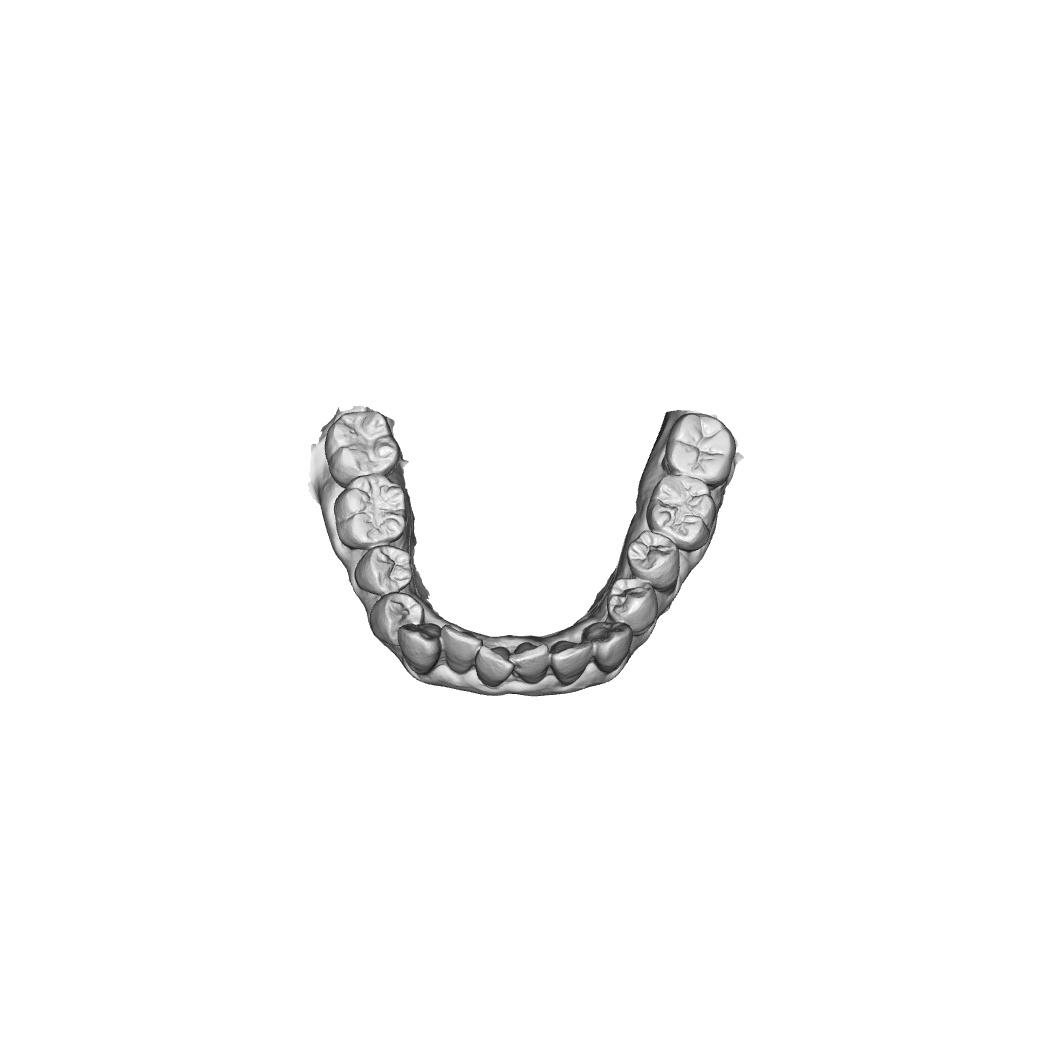canine: (581, 621, 634, 674), (397, 620, 443, 677)
incisor: (440, 623, 484, 676), (549, 638, 594, 688), (473, 643, 516, 689), (509, 640, 551, 686)
molar: (323, 411, 403, 489), (332, 472, 409, 550), (661, 411, 737, 490), (645, 473, 718, 552)
premolar: (626, 528, 680, 595), (368, 590, 426, 648), (354, 544, 415, 597), (606, 577, 660, 636)
